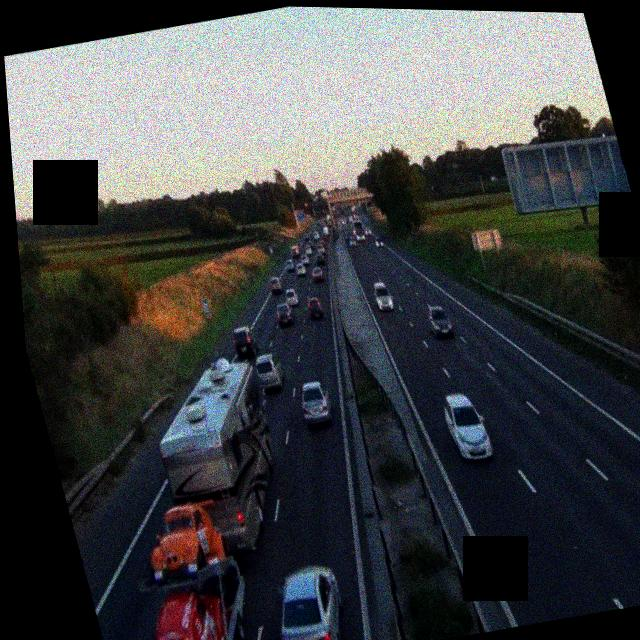car: (102, 542, 265, 640), (262, 562, 353, 640), (440, 389, 493, 464), (295, 378, 336, 426), (252, 349, 289, 394), (228, 324, 260, 362), (425, 302, 453, 338), (370, 278, 397, 313), (273, 301, 295, 327), (305, 294, 325, 319), (283, 290, 302, 311), (309, 263, 326, 284), (268, 276, 285, 296), (296, 260, 309, 276), (282, 254, 295, 270), (314, 250, 327, 265), (347, 234, 358, 248), (373, 235, 384, 248)
truck: (128, 352, 305, 569)
